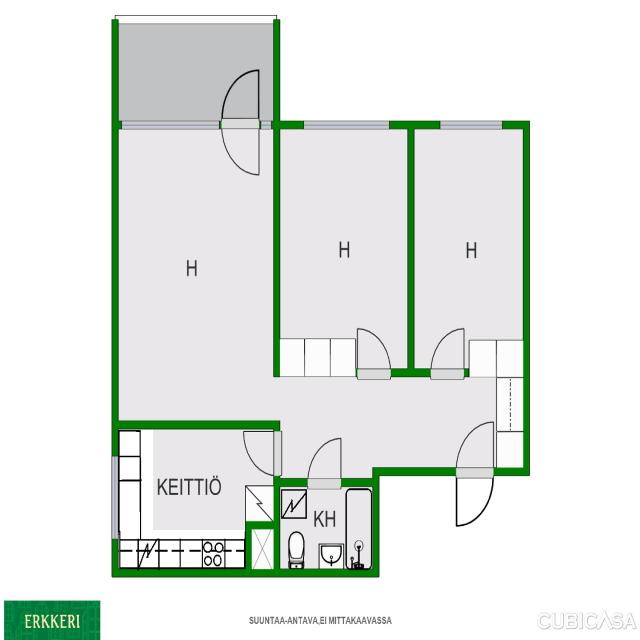door: (221, 70, 259, 129), (221, 121, 259, 179), (456, 418, 494, 476), (456, 467, 494, 525), (431, 323, 464, 376), (241, 432, 280, 476), (308, 434, 341, 486), (358, 323, 390, 376)
